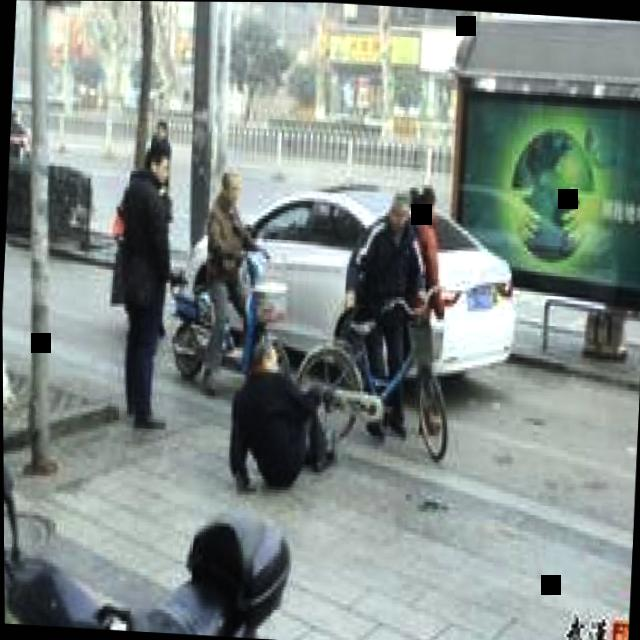Fall-Detected: (210, 316, 349, 494)
